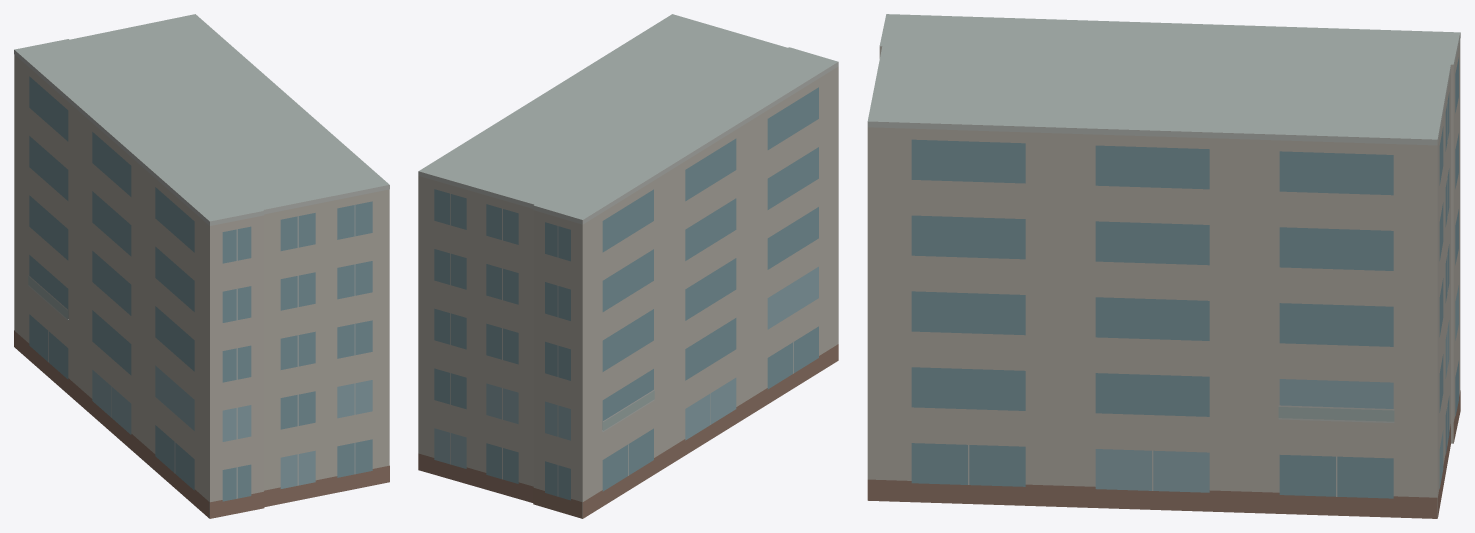
File: survey-upis-32938005.glb
3 views of the same model, side by side, from view 1: azimuth 30°, elevation 25°; view 2: azimuth 150°, elevation 25°; view 3: azimuth 270°, elevation 25° (orthographic). The views are drawn at different scales.
Visible parts, largest first — view 1: survey-upis-32938005.tmp; view 2: survey-upis-32938005.tmp; view 3: survey-upis-32938005.tmp.
Part boxes in pixels (bbox=[...]): survey-upis-32938005.tmp: bbox=[14, 14, 389, 518]; survey-upis-32938005.tmp: bbox=[418, 14, 838, 518]; survey-upis-32938005.tmp: bbox=[867, 14, 1460, 518].
Bounding box in the file's own units: 11.27 × 15.85 × 22.46.
